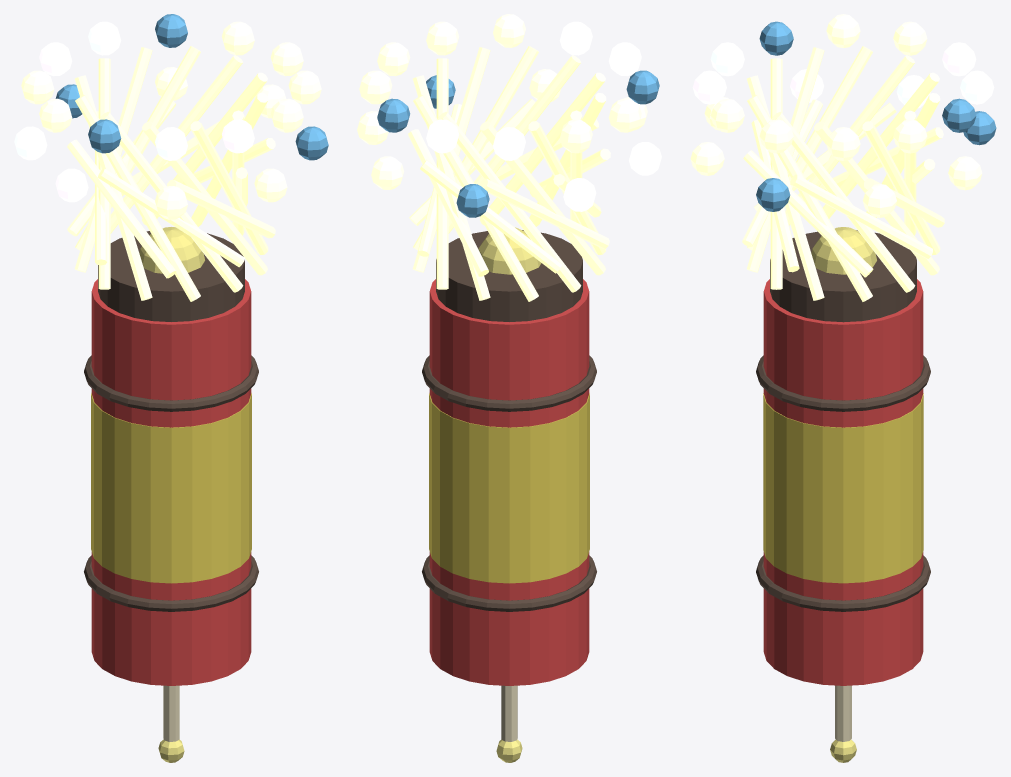
The model's file is firework.fbx.
The picture shows the model from 3 angles, left to right: view 1: azimuth 30°, elevation 25°; view 2: azimuth 150°, elevation 25°; view 3: azimuth 270°, elevation 25°; orthographic projection.
Visible parts, largest first — view 1: Firework; view 2: Firework; view 3: Firework.
Part boxes in pixels (bbox=[...]): Firework: bbox=[14, 14, 328, 762]; Firework: bbox=[357, 14, 661, 762]; Firework: bbox=[690, 14, 996, 762].
Size of the model in its own units: 0.4991 by 1.24 by 0.4991.
